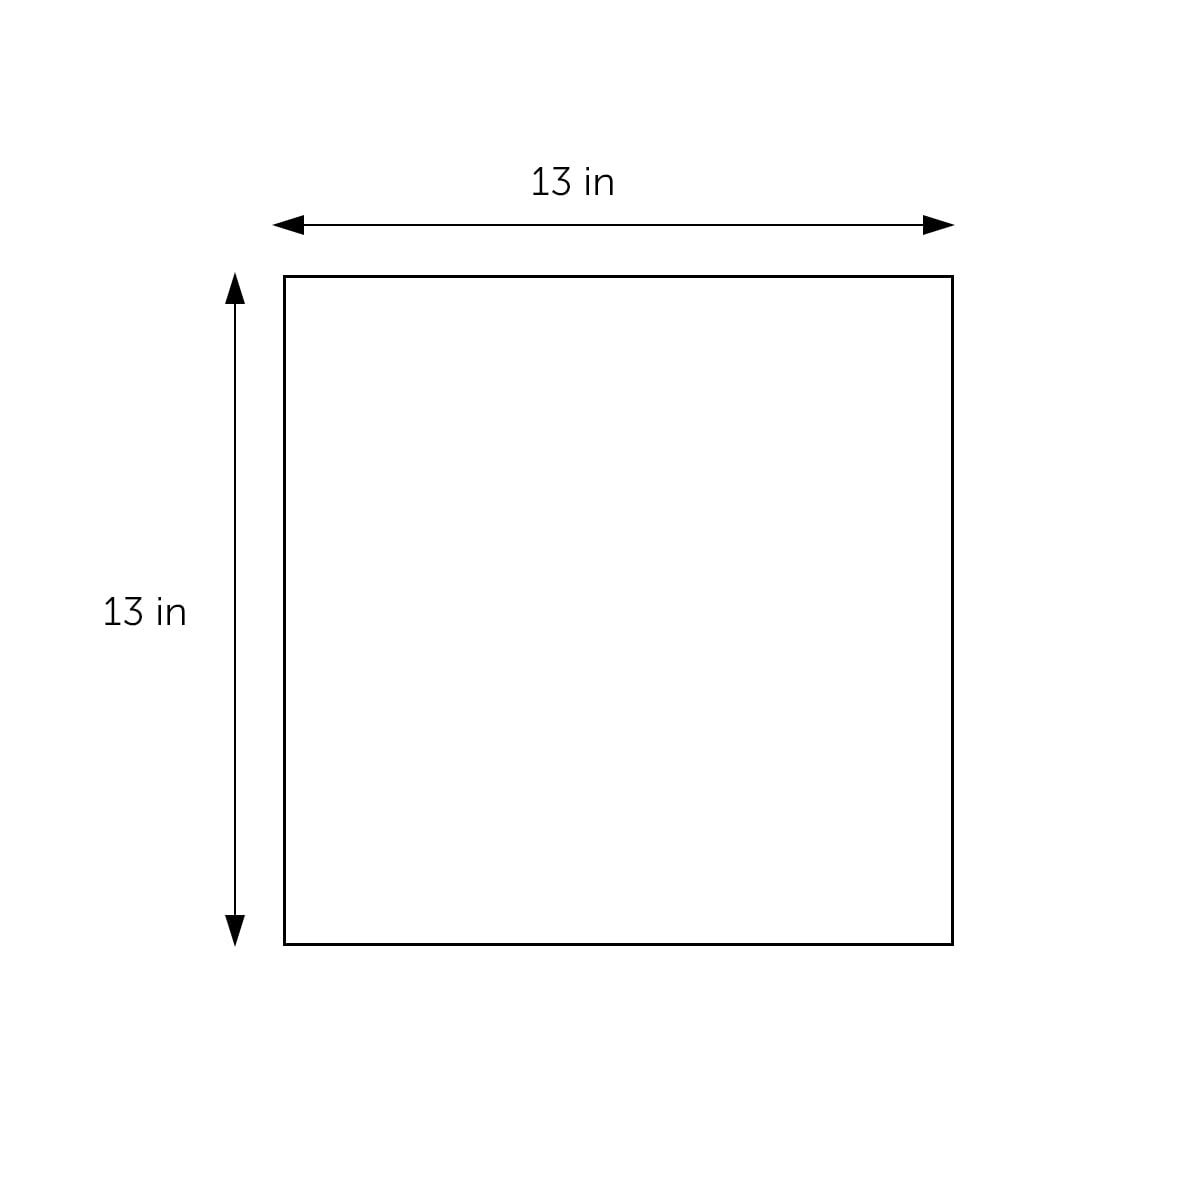13: (105, 597, 142, 625), (533, 167, 570, 195)
in: (586, 167, 613, 195), (158, 597, 185, 625)
